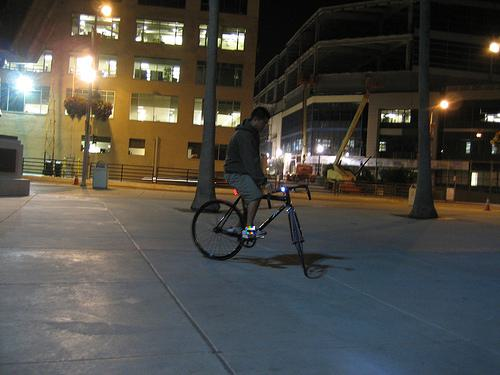car: (192, 183, 310, 277)
person: (226, 106, 272, 242)
